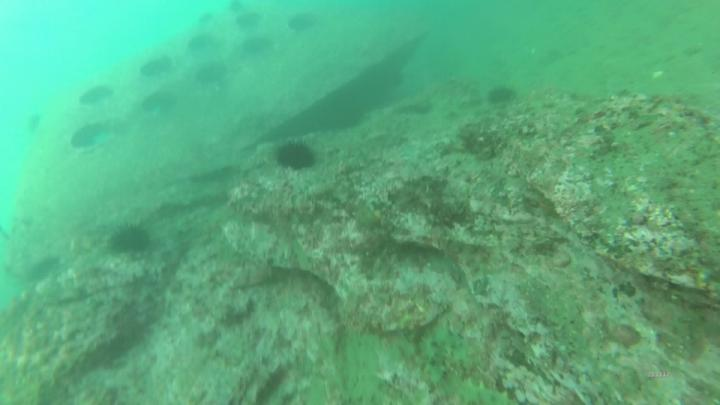echinus: (105, 223, 155, 253), (275, 140, 320, 173), (484, 83, 518, 110)
holothurian: (418, 324, 471, 381)
